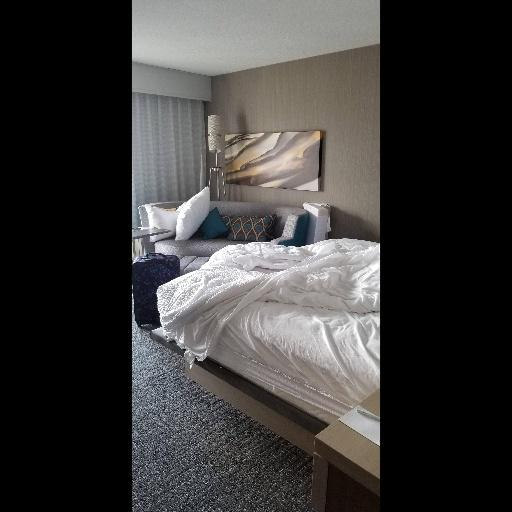messy_bed: (153, 233, 383, 438)
